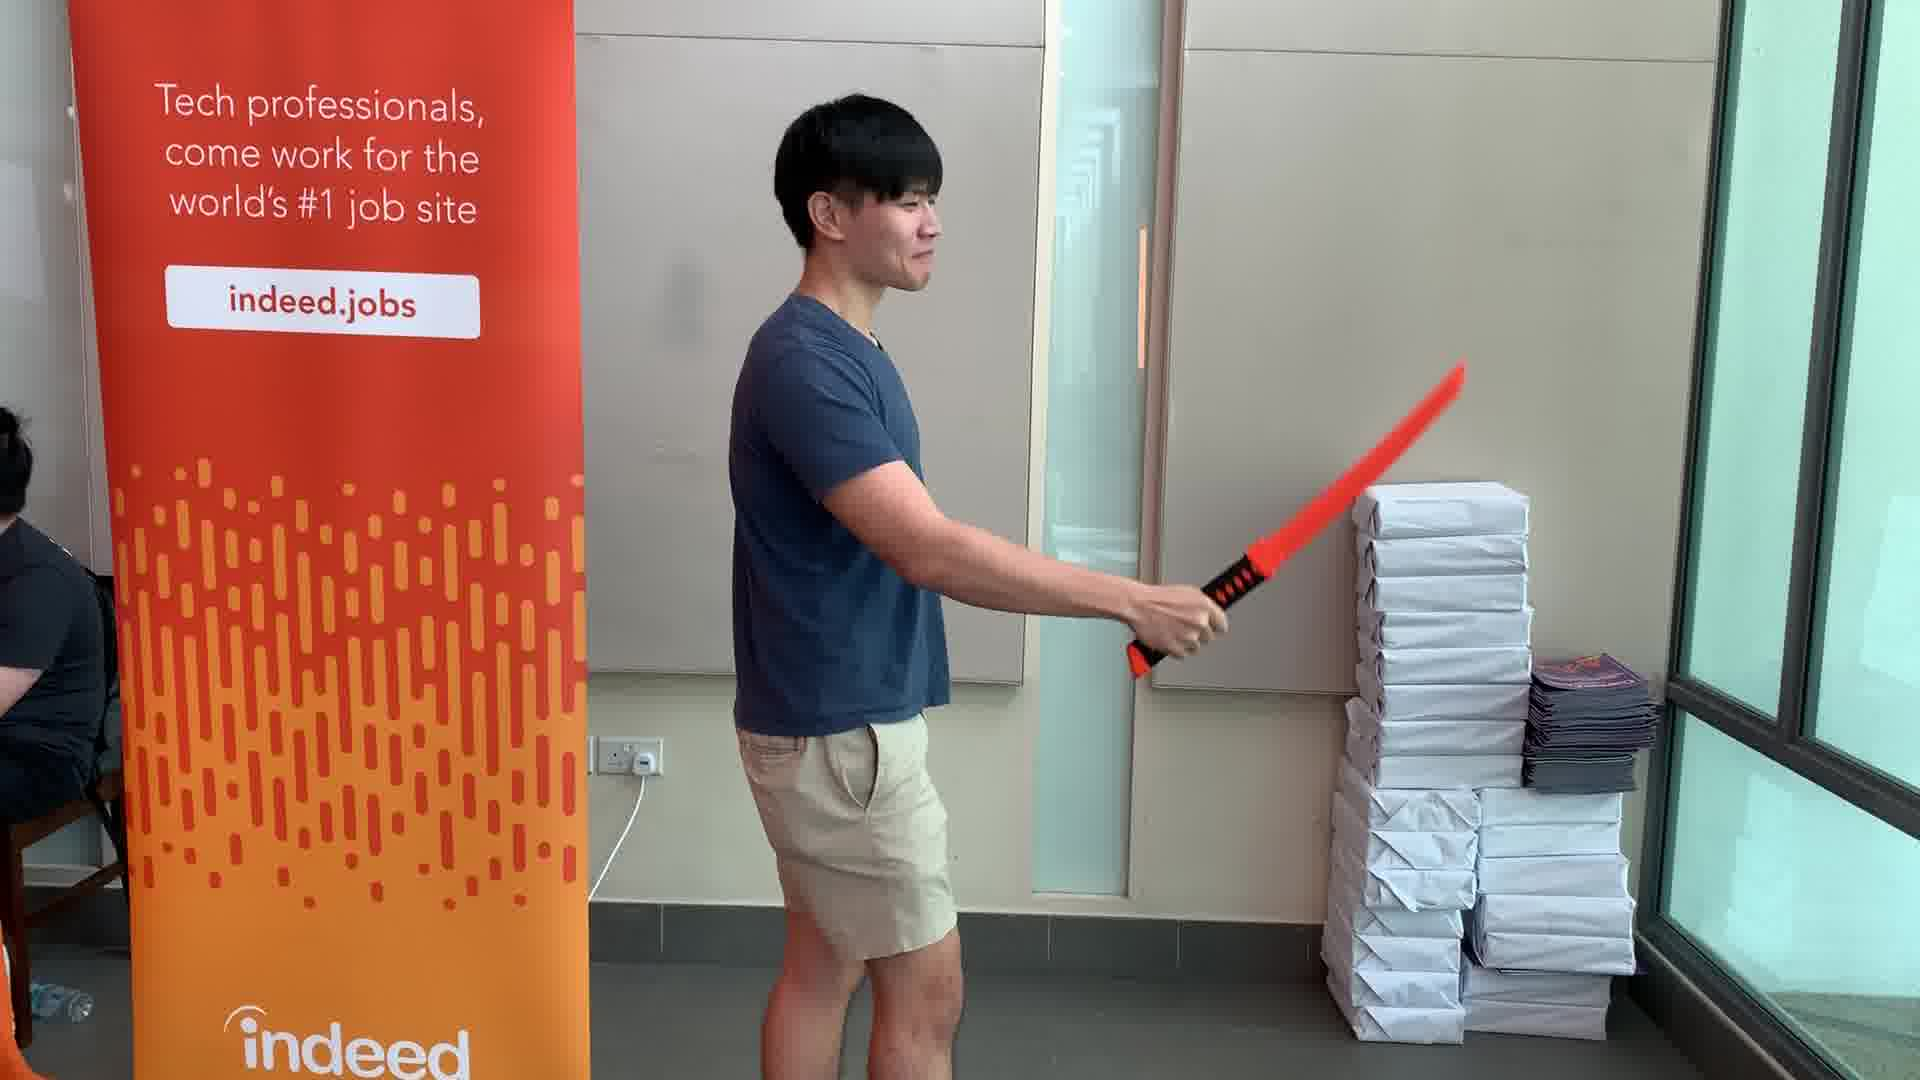knife: (1105, 349, 1477, 684)
